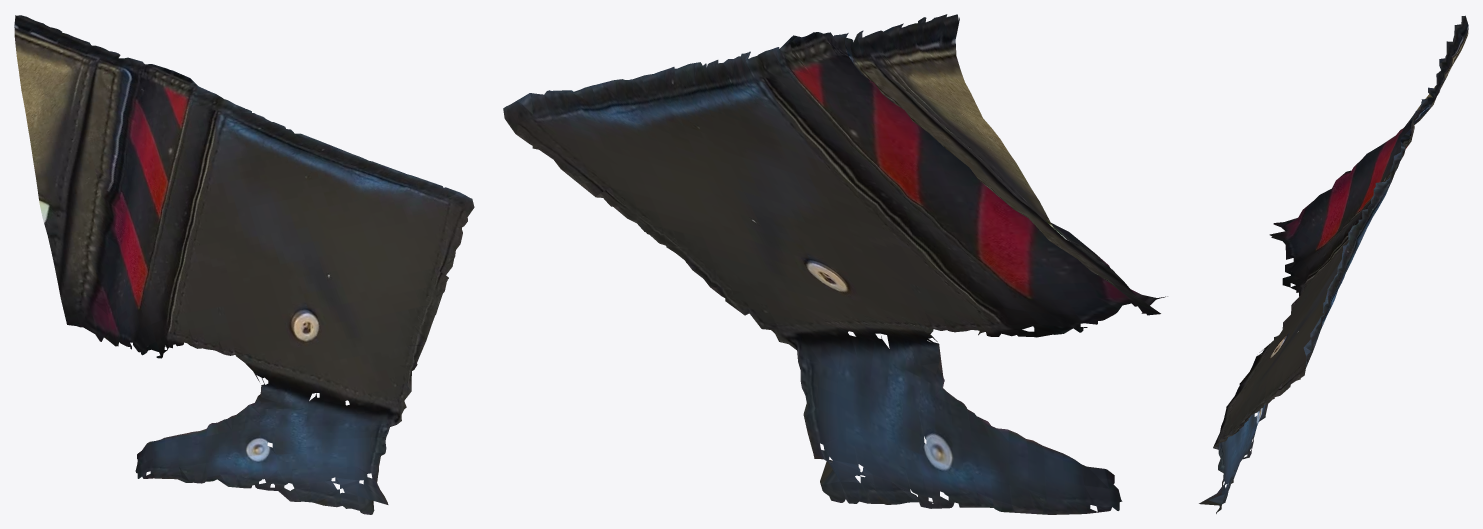
Rendered from observed-surface.glb.
3 renders of one model, left to right at view 1: azimuth 30°, elevation 25°; view 2: azimuth 150°, elevation 25°; view 3: azimuth 270°, elevation 25°, orthographic. The views are drawn at different scales.
Visible parts, largest first — view 1: geometry_0; view 2: geometry_0; view 3: geometry_0.
Part boxes in pixels (bbox=[...]): geometry_0: bbox=[14, 15, 474, 514]; geometry_0: bbox=[503, 14, 1167, 514]; geometry_0: bbox=[1199, 15, 1468, 513].
Bounding box in the file's own units: 0.5769 × 0.6143 × 0.3714.
1 material, 1 textured.
